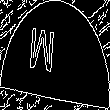M_S: (41, 27, 69, 83)
